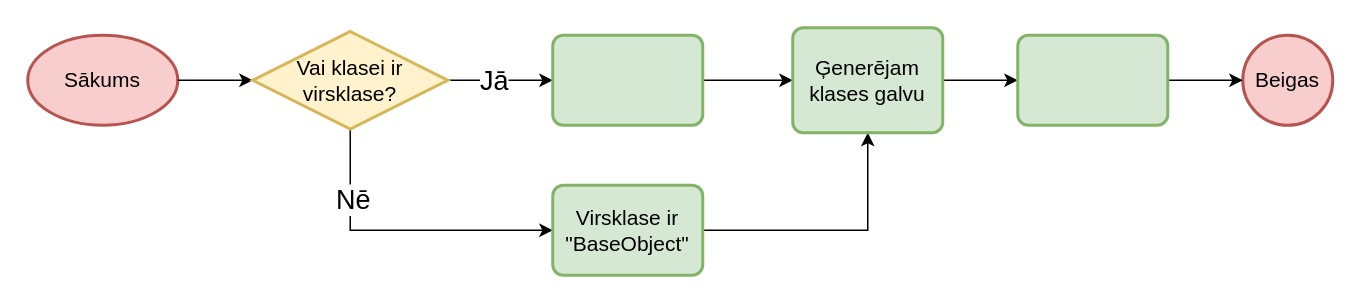
This 1359x302 diagram has some shape labels left out. Each missing label, with the centre of its shape:
"Virsklase ir klases virsklase" belongs at (627,79).
"Ģenerējam klases ķermeni" belongs at (1092,79).
